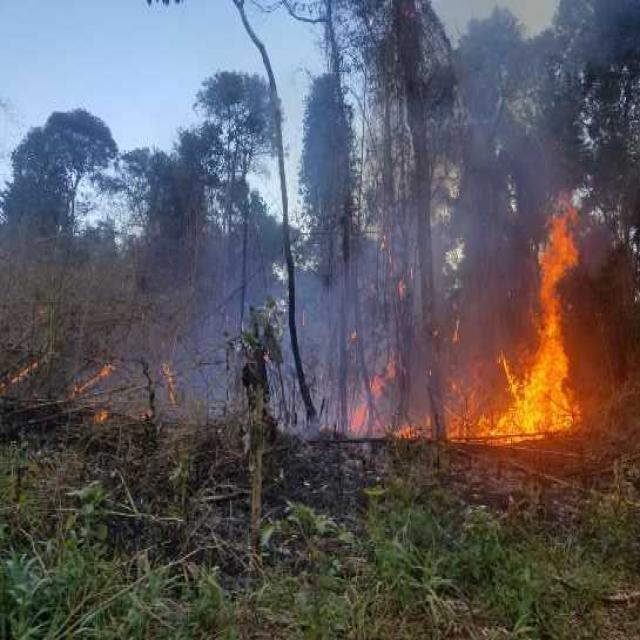Fire: (498, 200, 584, 443), (360, 350, 428, 450), (436, 380, 492, 448)
Smoke: (324, 15, 623, 174), (207, 208, 341, 426), (357, 197, 488, 327)
